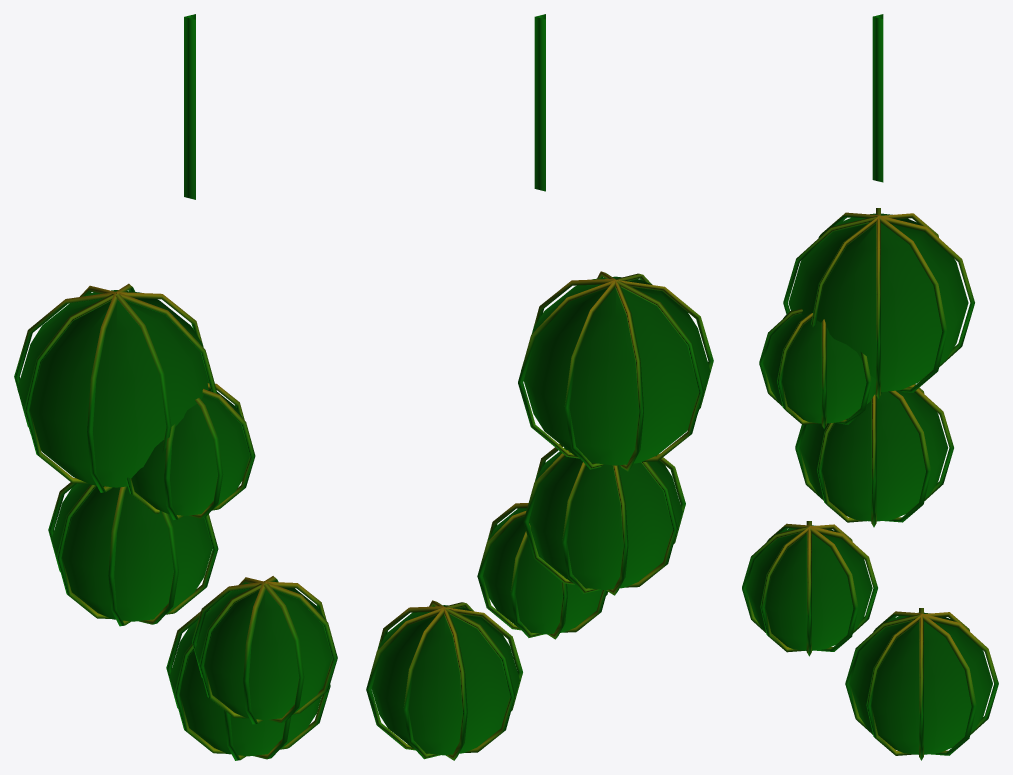
The model's file is net_float_cluster.glb.
The picture shows the model from 3 angles, left to right: view 1: azimuth 30°, elevation 25°; view 2: azimuth 150°, elevation 25°; view 3: azimuth 270°, elevation 25°; orthographic projection. The views are drawn at different scales.
Visible parts, largest first — view 1: net_float_cluster; view 2: net_float_cluster; view 3: net_float_cluster.
Part boxes in pixels (x1,y1,x2,y2): net_float_cluster: (14,14,337,760); net_float_cluster: (366,14,713,760); net_float_cluster: (742,14,998,760).
Size of what is drawn, in the model's own units: 0.2792 by 0.6448 by 0.2139.
